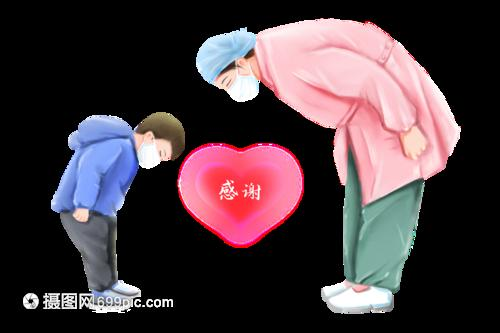bending: (197, 19, 460, 316), (48, 107, 183, 310)
